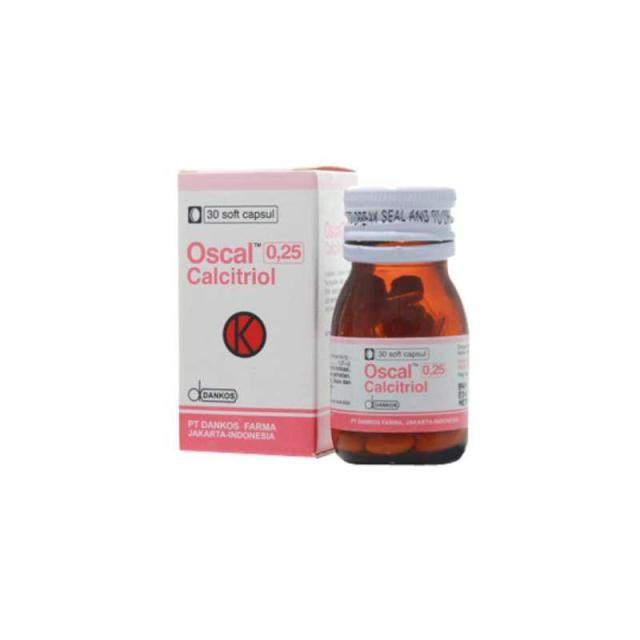drug-name: (188, 236, 307, 268)
